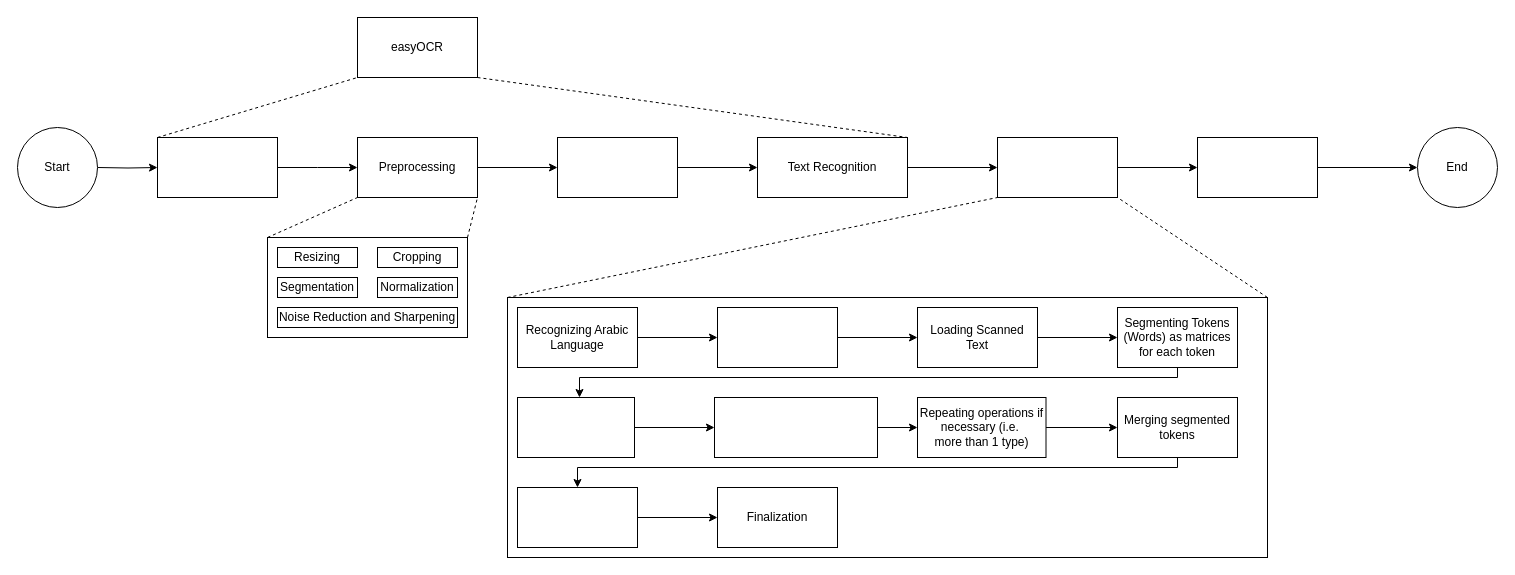
Image size: 1515x575. Some labels were removed from this diagram. The box of each missing label's shape, as (x1, y1, x2, y2) in pixels:
Comparing between Tokens in Text and in Lexicon: (516, 396, 634, 458)
Comparing with Context: (516, 486, 638, 548)
Document Input and Image Capture: (156, 136, 278, 198)
Doing necessary operations (Deletions, Insertions, Replacement, Transposes): (714, 396, 878, 458)
Feature Mapping and Extraction: (556, 136, 678, 198)
Loading Arabic Alphabet and Lexicon: (716, 306, 838, 368)
Postprocessing: (996, 136, 1118, 198)
Text Convertion and Output: (1196, 136, 1318, 198)
